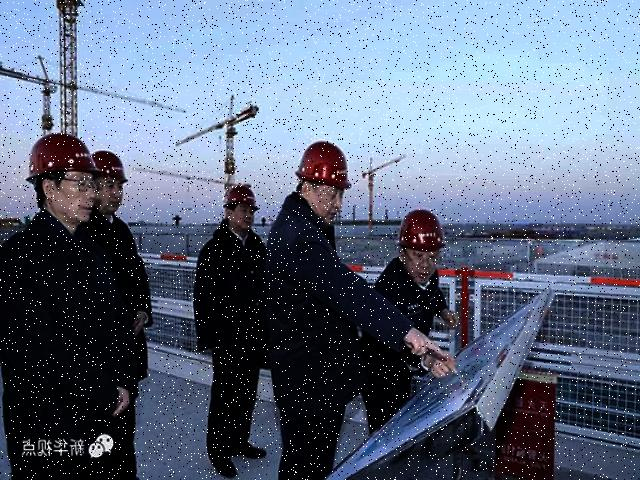Helmet: (24, 128, 99, 188), (294, 136, 356, 192), (394, 204, 449, 255), (94, 147, 132, 185), (222, 179, 262, 215)
